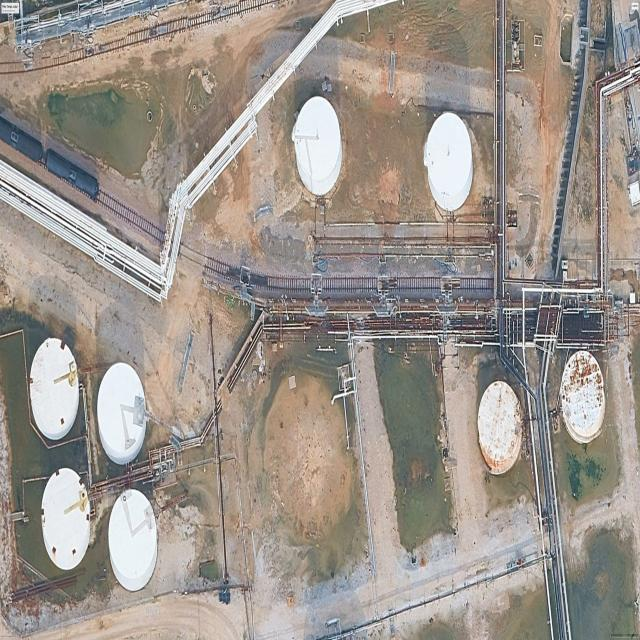Oil Rafinery: (291, 96, 342, 196), (29, 338, 79, 440), (97, 363, 147, 465), (108, 489, 158, 591), (41, 467, 90, 570), (424, 112, 473, 211), (560, 350, 606, 444), (477, 381, 523, 475)
